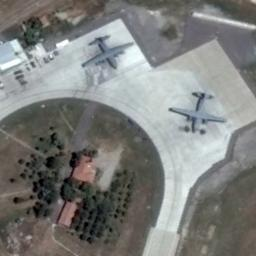Airplane: (168, 91, 226, 134), (81, 34, 133, 69)
